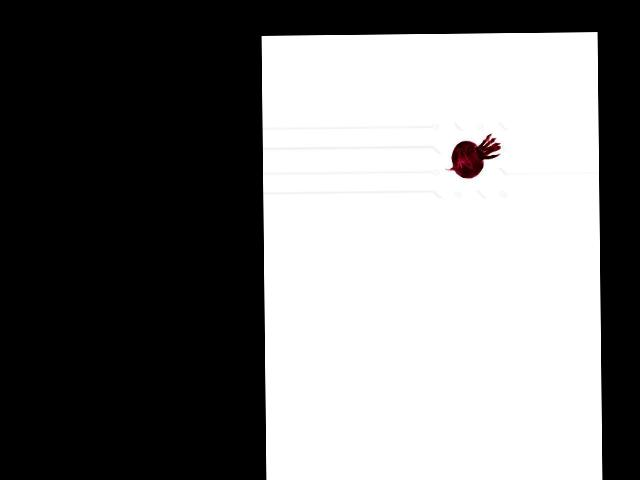beet: (444, 134, 500, 179)
